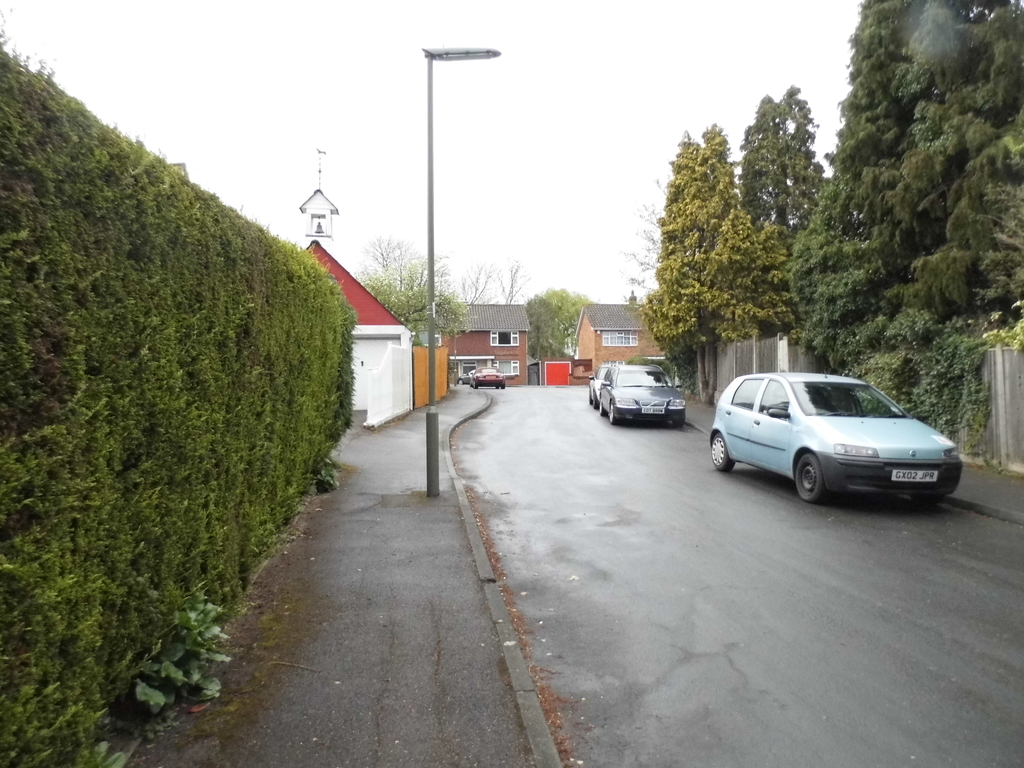Car: (712, 361, 968, 513), (599, 363, 693, 431), (586, 364, 611, 400), (466, 366, 506, 384)
